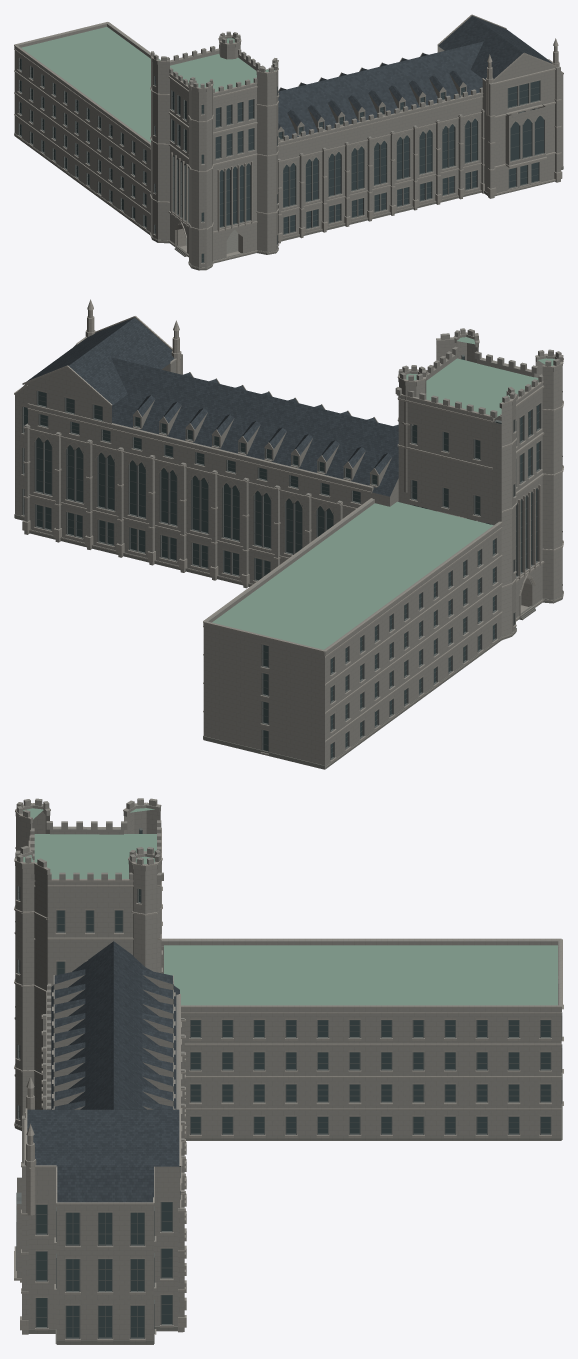
The picture shows the model from 3 angles, top to bottom: view 1: azimuth 30°, elevation 25°; view 2: azimuth 150°, elevation 25°; view 3: azimuth 270°, elevation 25°; orthographic projection. The views are drawn at different scales.
Visible parts, largest first — view 1: graduateOldLibrary__stone, graduateOldLibrary__cream, graduateOldLibrary__glass, graduateOldLibrary__roof, graduateOldLibrary__frame, graduateOldLibrary__light, graduateOldLibrary__rough; view 2: graduateOldLibrary__stone, graduateOldLibrary__light, graduateOldLibrary__roof, graduateOldLibrary__cream, graduateOldLibrary__glass, graduateOldLibrary__frame, graduateOldLibrary__rough; view 3: graduateOldLibrary__stone, graduateOldLibrary__light, graduateOldLibrary__roof, graduateOldLibrary__cream, graduateOldLibrary__glass, graduateOldLibrary__frame, graduateOldLibrary__rough.
Part boxes in pixels (<box>): graduateOldLibrary__stone: <box>14,22,563,270</box>; graduateOldLibrary__cream: <box>14,14,563,268</box>; graduateOldLibrary__glass: <box>20,58,543,262</box>; graduateOldLibrary__roof: <box>278,15,551,138</box>; graduateOldLibrary__frame: <box>18,57,544,263</box>; graduateOldLibrary__light: <box>21,27,274,142</box>; graduateOldLibrary__rough: <box>14,133,563,270</box>; graduateOldLibrary__stone: <box>15,328,563,769</box>; graduateOldLibrary__light: <box>212,337,555,649</box>; graduateOldLibrary__roof: <box>27,317,398,496</box>; graduateOldLibrary__cream: <box>14,299,563,767</box>; graduateOldLibrary__glass: <box>24,356,539,758</box>; graduateOldLibrary__frame: <box>22,354,541,760</box>; graduateOldLibrary__rough: <box>14,514,563,769</box>; graduateOldLibrary__stone: <box>15,798,561,1344</box>; graduateOldLibrary__light: <box>23,808,557,1005</box>; graduateOldLibrary__roof: <box>27,941,179,1202</box>; graduateOldLibrary__cream: <box>14,802,563,1341</box>; graduateOldLibrary__glass: <box>19,830,550,1337</box>; graduateOldLibrary__frame: <box>16,828,562,1338</box>; graduateOldLibrary__rough: <box>14,1073,562,1344</box>.
Bounding box in the file's own units: 59.49 × 27.59 × 50.3.
Materials: 7 (4 with a texture image).
